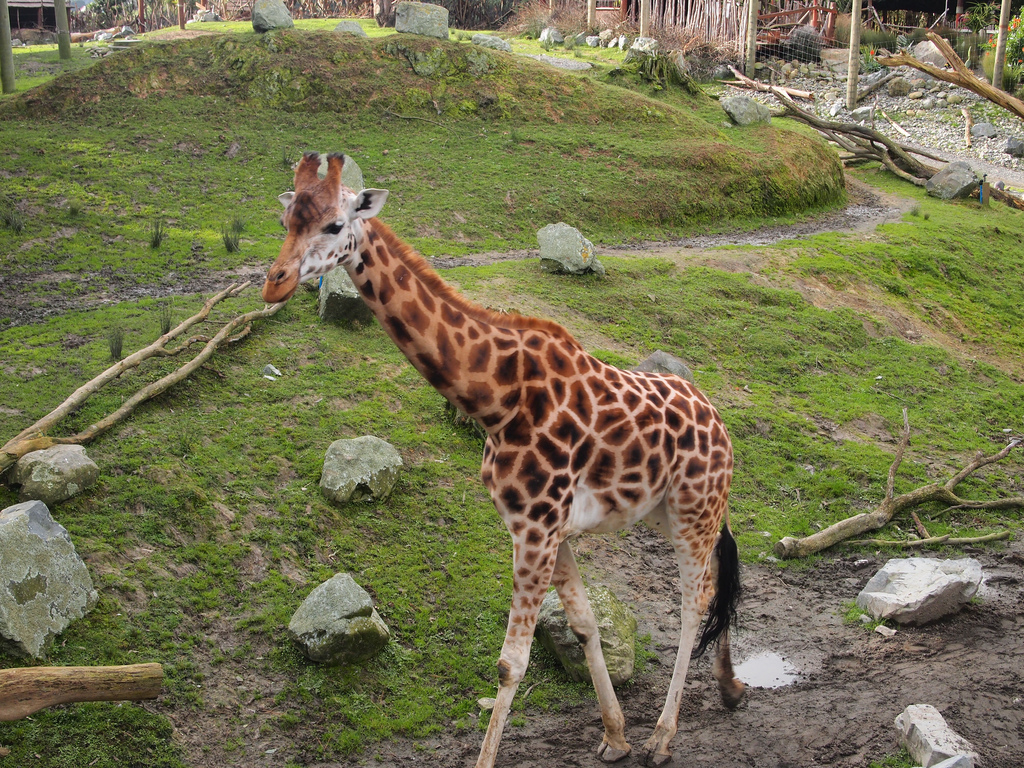giraffe: (259, 149, 808, 721)
